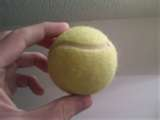tennis ball: (47, 25, 118, 95)
